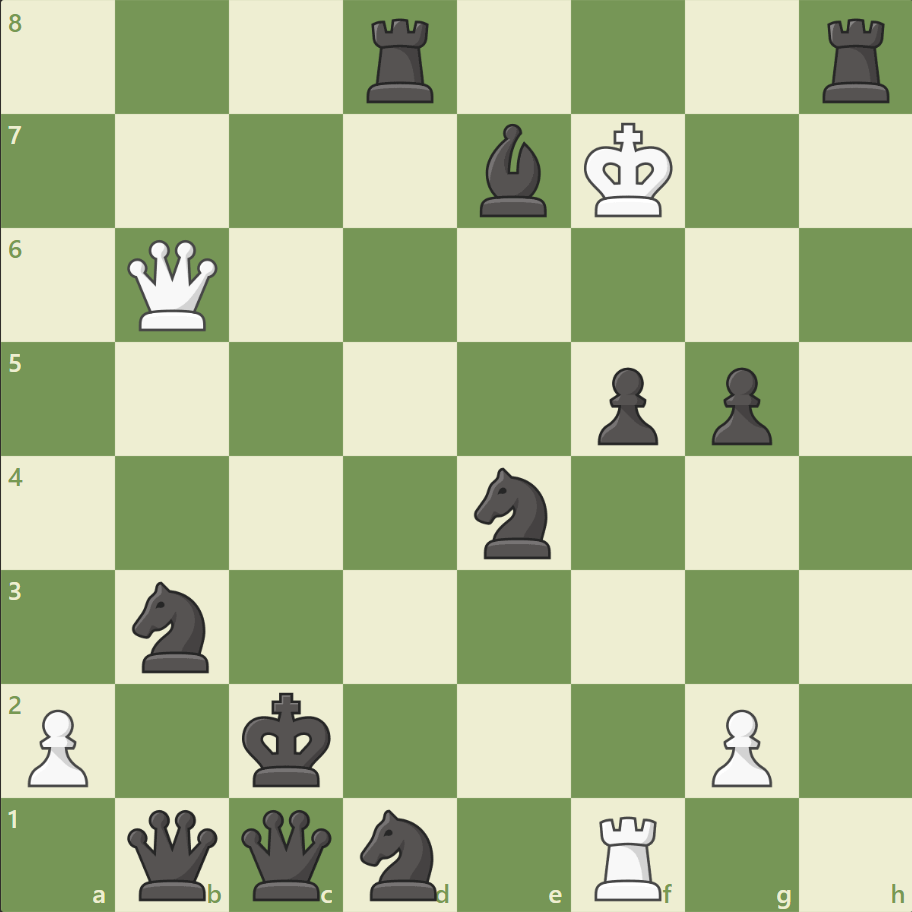K: (579, 117, 679, 225)
P: (20, 700, 95, 791), (701, 700, 776, 791)
Q: (124, 236, 223, 335)
R: (587, 806, 670, 904)
b: (471, 120, 555, 222)
k: (238, 685, 338, 793)
n: (124, 575, 222, 677), (351, 802, 449, 904), (465, 461, 562, 564)
p: (701, 359, 776, 450), (588, 359, 662, 450)
q: (124, 804, 223, 903), (237, 804, 336, 903)
r: (814, 12, 897, 109), (360, 12, 442, 109)
